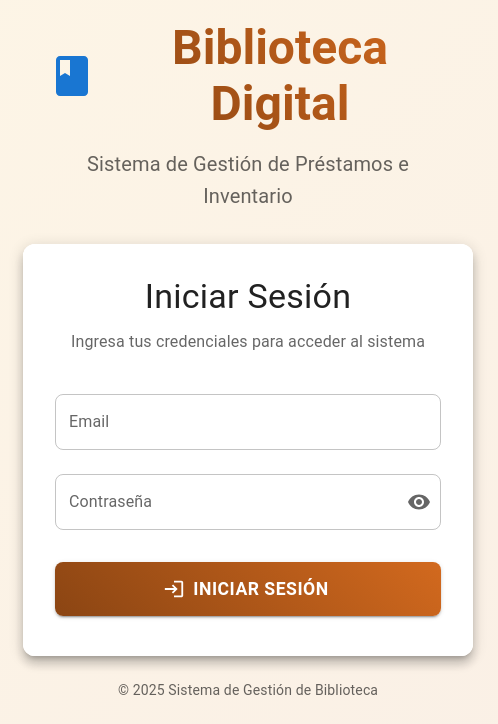
Scenario: Login Component › Validación de formulario › debe mostrar error cuando el email está vacío
Note: Llenar solo la contraseña
Type "password123" into the password field labelled "Contraseña". click: (223, 502)
box: [55,474,391,530]
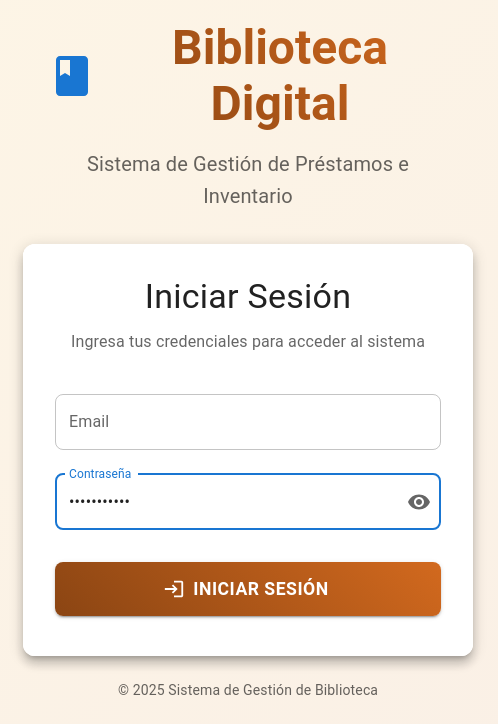
Note: Intentar enviar el formulario
Click the button "Iniciar Sesión". click: (248, 589)
box: [55,562,441,616]
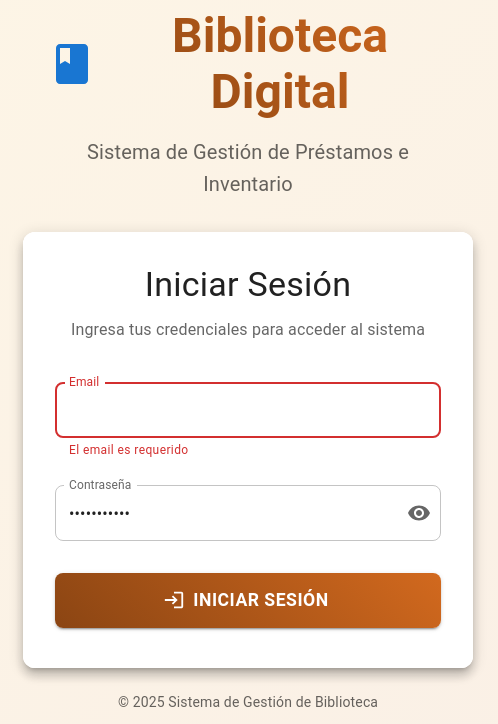
expect the text "El email es requerido" is shown: met, box [69,443,189,457]
